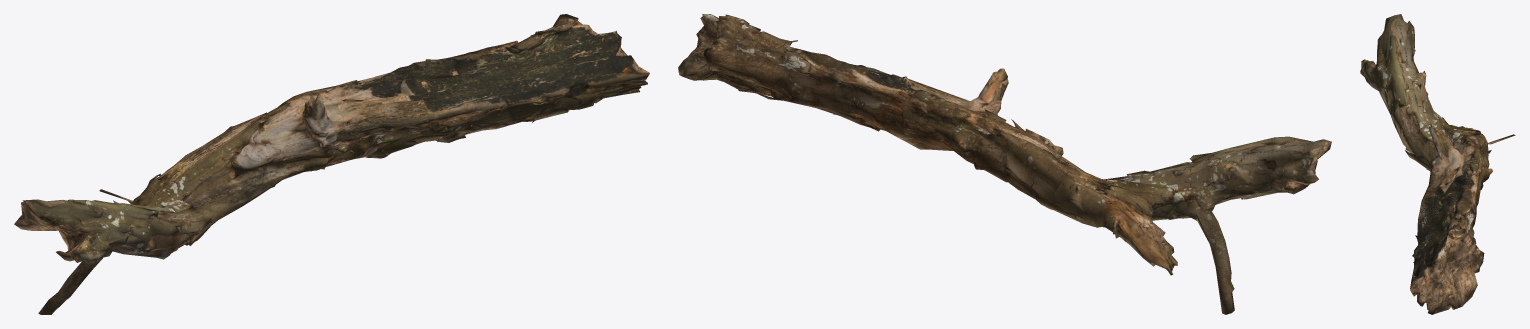
The model's file is dead_tree_trunk_02_LOD1.glb.
3 renders of one model, left to right at view 1: azimuth 30°, elevation 25°; view 2: azimuth 150°, elevation 25°; view 3: azimuth 270°, elevation 25°, orthographic. The views are drawn at different scales.
Visible parts, largest first — view 1: dead_tree_trunk_02_LOD1__lodS; view 2: dead_tree_trunk_02_LOD1__lodS; view 3: dead_tree_trunk_02_LOD1__lodS.
Part boxes in pixels (<box>): dead_tree_trunk_02_LOD1__lodS: <box>14,14,649,314</box>; dead_tree_trunk_02_LOD1__lodS: <box>678,14,1331,314</box>; dead_tree_trunk_02_LOD1__lodS: <box>1360,14,1515,314</box>.
Size of what is drawn, in the model's own units: 4.05 by 1.06 by 1.05.
1 material, 1 textured.
